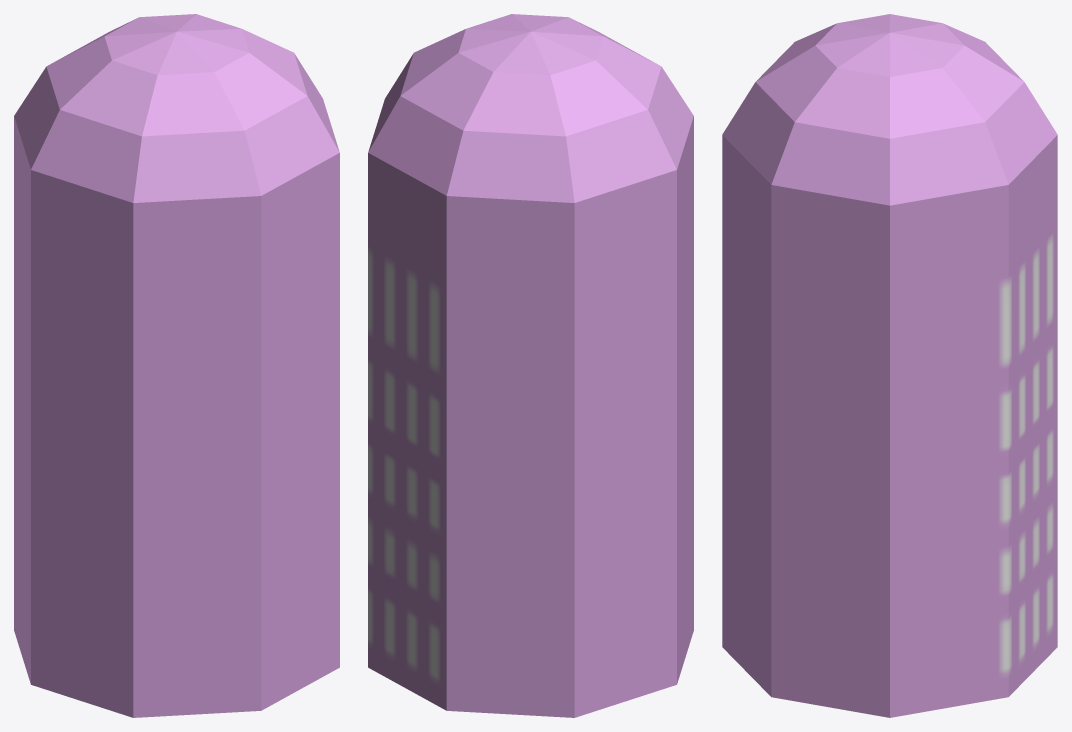
The model's file is wala_building07.fbx.
The picture shows the model from 3 angles, left to right: view 1: azimuth 30°, elevation 25°; view 2: azimuth 150°, elevation 25°; view 3: azimuth 270°, elevation 25°; orthographic projection.
Visible parts, largest first — view 1: wala_building07; view 2: wala_building07; view 3: wala_building07.
Part boxes in pixels (left/top/right/bottom): wala_building07: left=14, top=14, right=339, bottom=717; wala_building07: left=368, top=14, right=693, bottom=717; wala_building07: left=722, top=14, right=1057, bottom=717.
Size of the model in its own units: 6.56 by 13.25 by 6.56.
